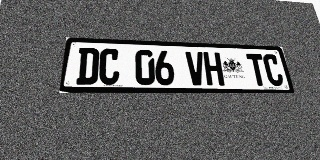0: (135, 50, 155, 85)
6: (154, 50, 175, 85)
C: (98, 48, 120, 85), (262, 54, 285, 86)
D: (76, 48, 100, 85)
H: (203, 52, 225, 86)
T: (246, 53, 269, 86)
V: (185, 51, 206, 85)
